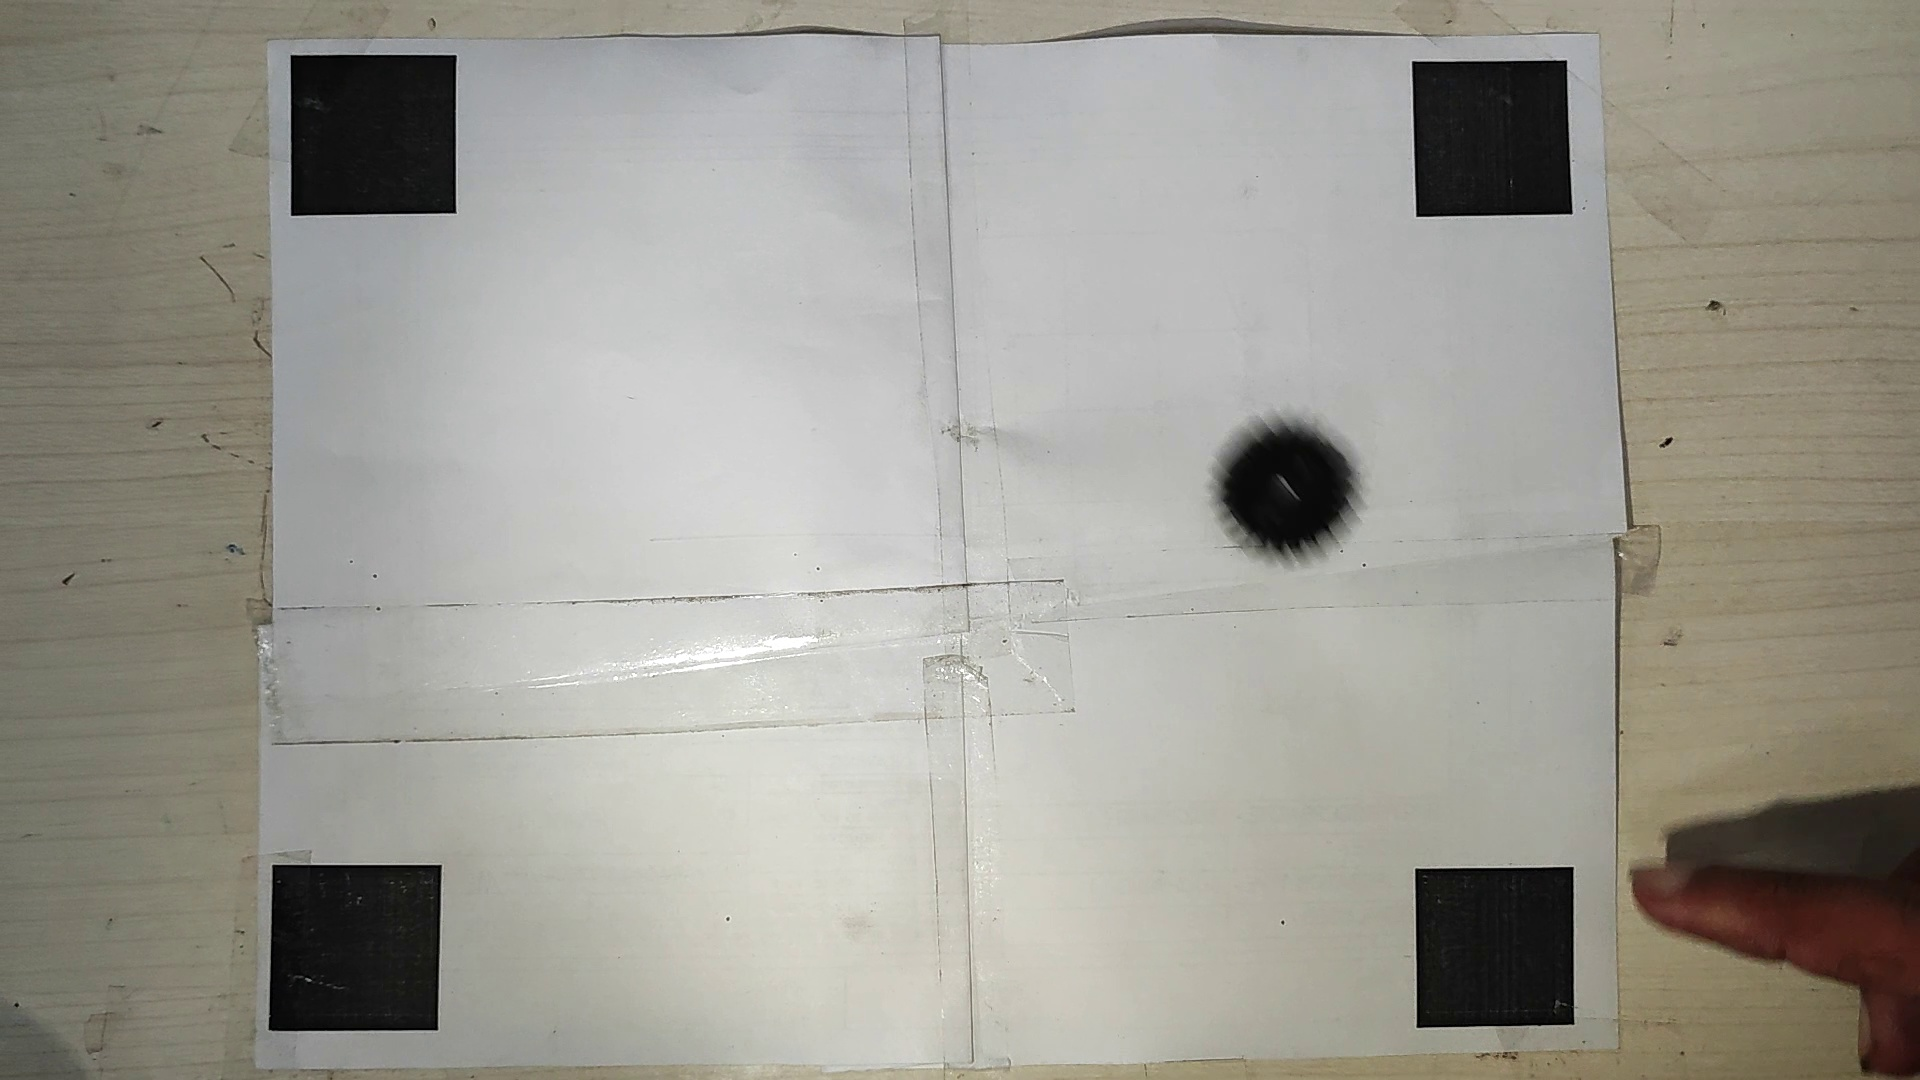Gear: (1209, 415, 1362, 557)
